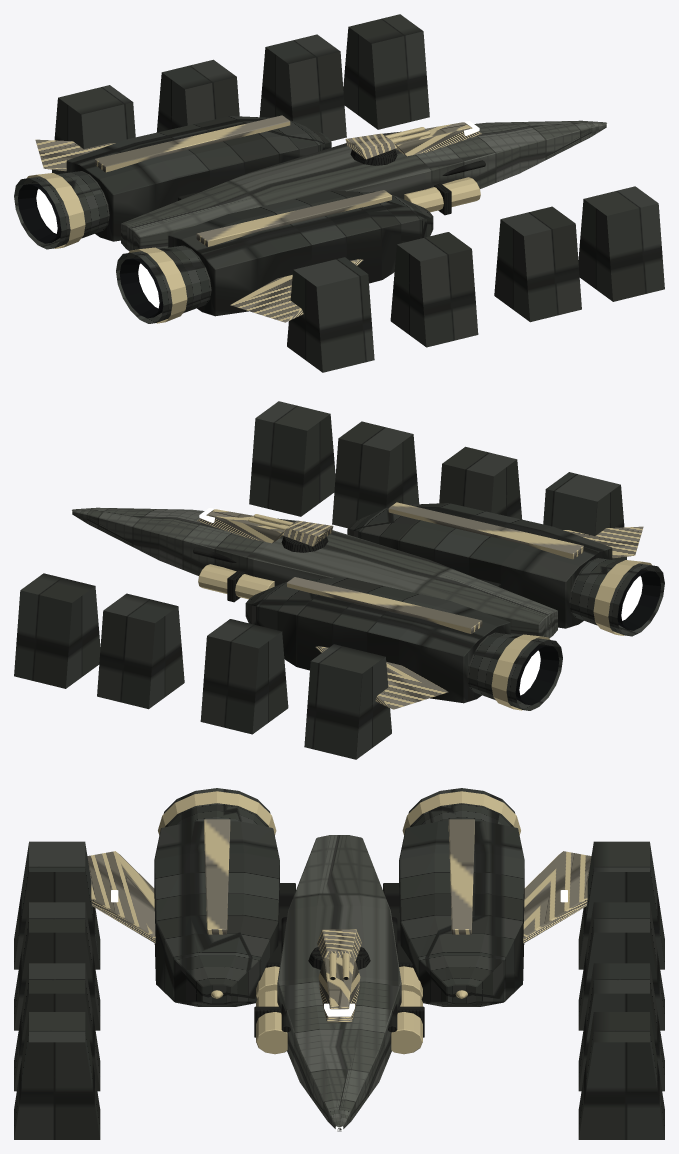
File: corvette.glb
3 views of the same model, one above another, from view 1: azimuth 30°, elevation 25°; view 2: azimuth 150°, elevation 25°; view 3: azimuth 270°, elevation 25° (orthographic). The views are drawn at different scales.
Visible parts, largest first — view 1: corvette; view 2: corvette; view 3: corvette.
Boxes of the visible parts, box(x1,y1,x2,y2) form: corvette: box(14, 14, 664, 372); corvette: box(14, 401, 664, 759); corvette: box(14, 788, 664, 1139).
Size of the model in its own units: 20 by 3.29 by 18.11.
1 material, 1 textured.
